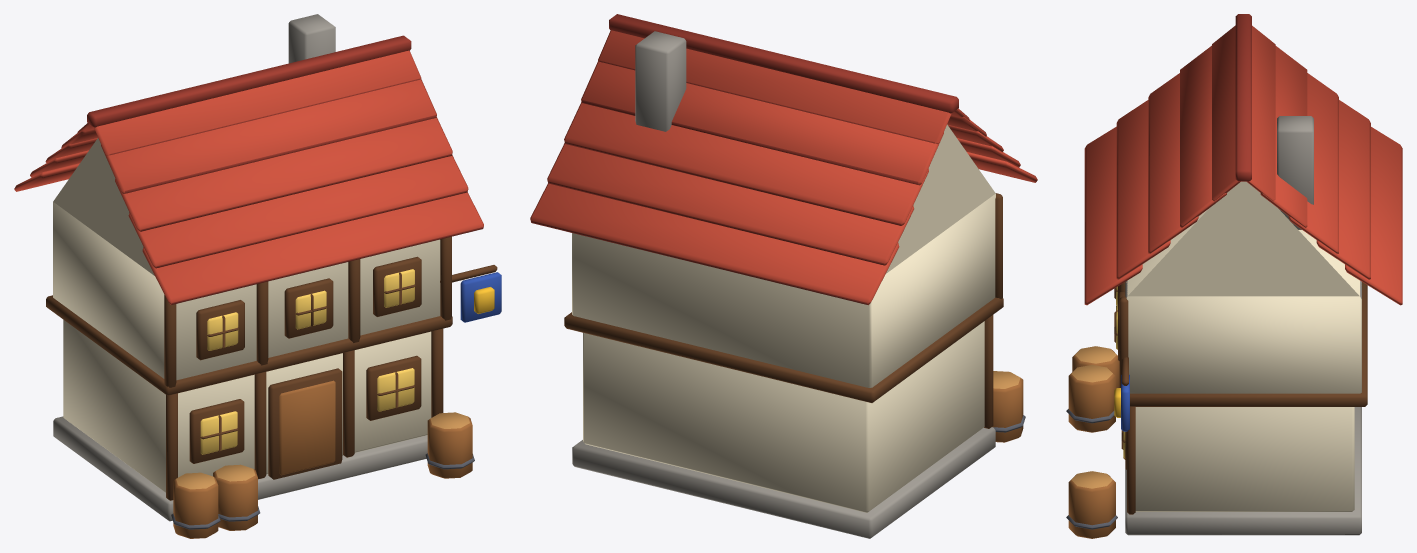
The model's file is B_MedTavern.fbx.
3 views of the same model, side by side, from view 1: azimuth 30°, elevation 25°; view 2: azimuth 150°, elevation 25°; view 3: azimuth 270°, elevation 25° (orthographic). The views are drawn at different scales.
Visible parts, largest first — view 1: M_Tavern; view 2: M_Tavern; view 3: M_Tavern.
Part boxes in pixels (bbox=[...]): M_Tavern: bbox=[14, 14, 501, 538]; M_Tavern: bbox=[530, 14, 1037, 538]; M_Tavern: bbox=[1066, 14, 1402, 538].
Size of the model in its own units: 5.59 by 5.8 by 4.55.
Materials: 1 (1 with a texture image).
